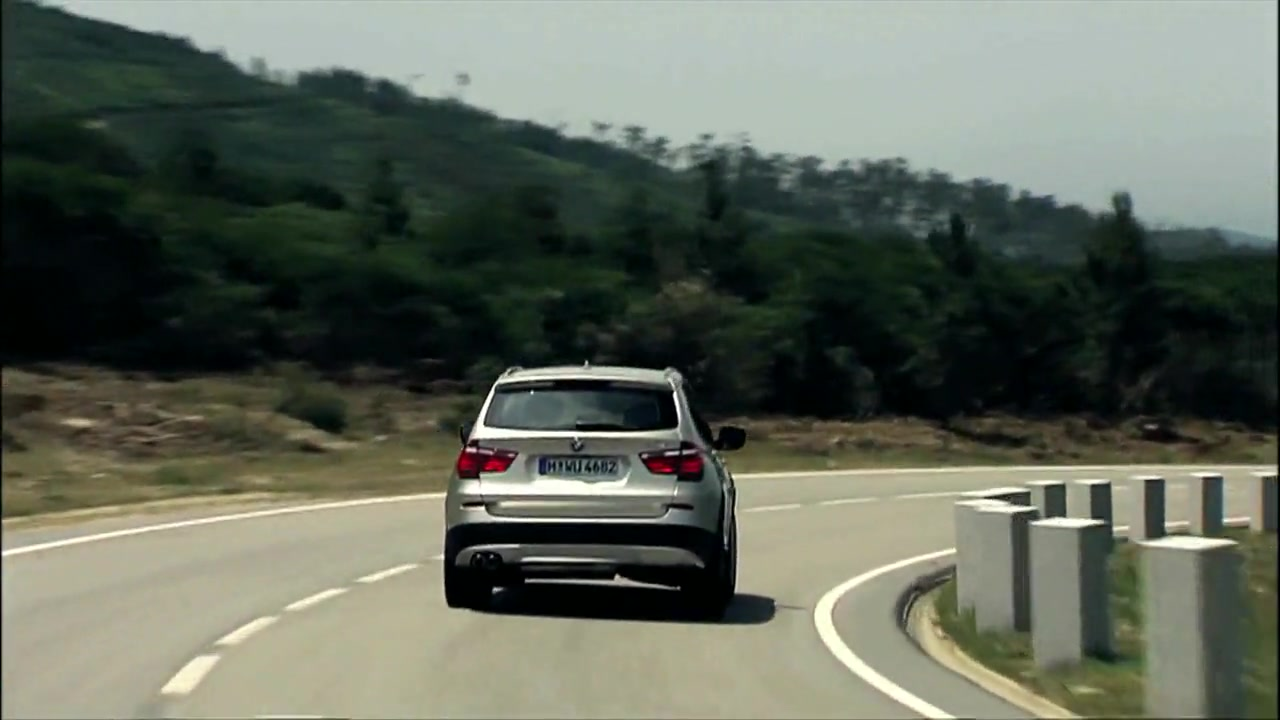car: (435, 359, 750, 613)
